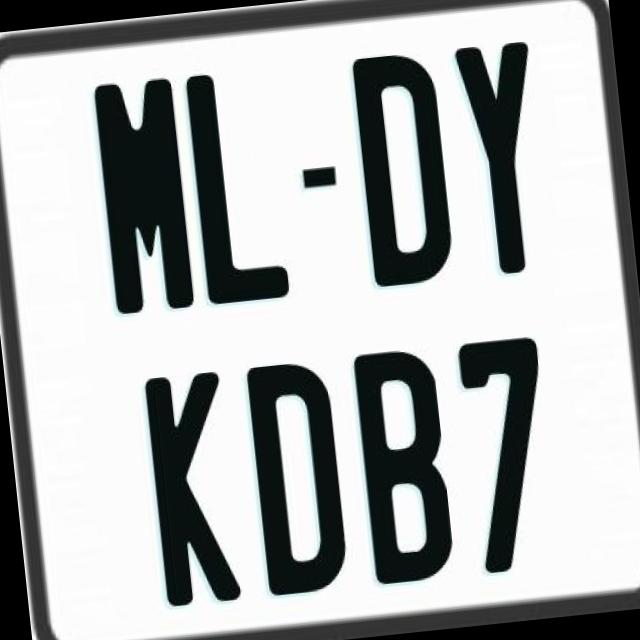7: (452, 336, 558, 584)
B: (352, 341, 463, 583)
D: (246, 359, 358, 599), (348, 51, 460, 290)
K: (144, 370, 243, 614)
L: (182, 65, 292, 302)
M: (93, 77, 195, 319)
Y: (452, 36, 554, 274)
